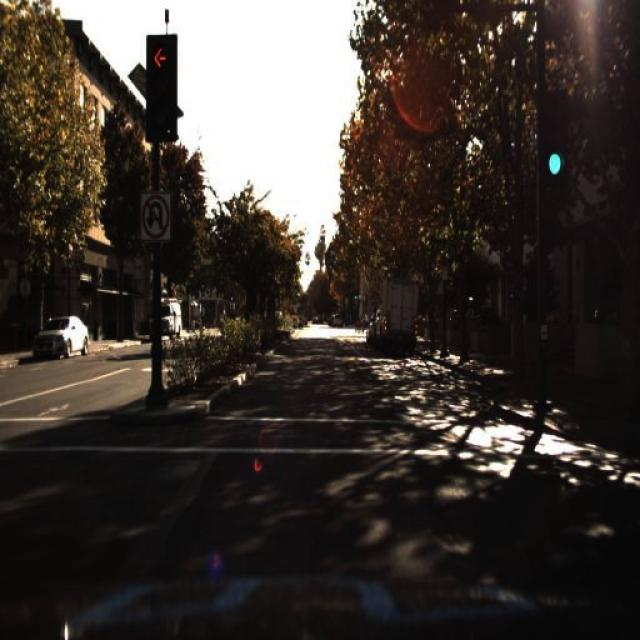semaforo: (144, 35, 178, 143), (537, 91, 567, 186)
